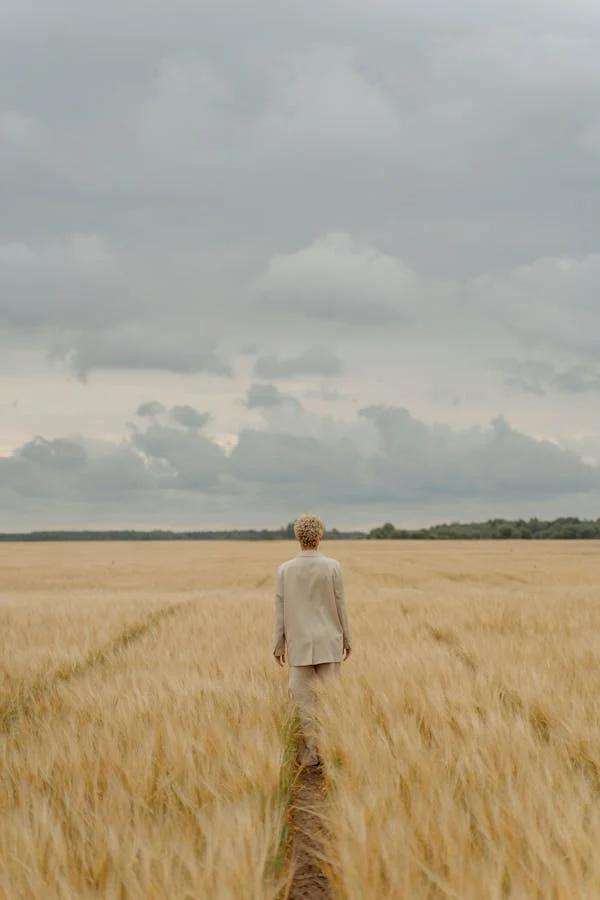Human: (248, 501, 385, 804)
